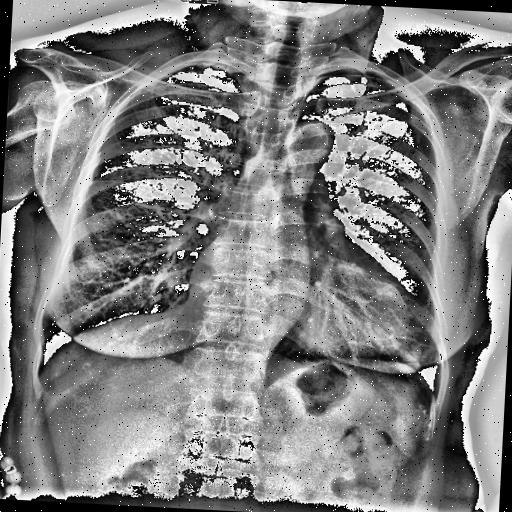0- Aortic enlargement: (286, 117, 336, 206), (285, 118, 331, 188), (290, 120, 334, 167)
11- Pleural thickening: (162, 56, 241, 80), (200, 60, 240, 74)
3- Cardiomegaly: (180, 248, 412, 360), (185, 260, 415, 360), (183, 260, 413, 358)
